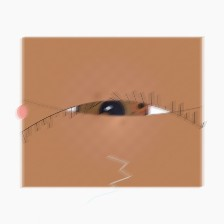foreign_body_visible: (122, 90, 160, 121)
